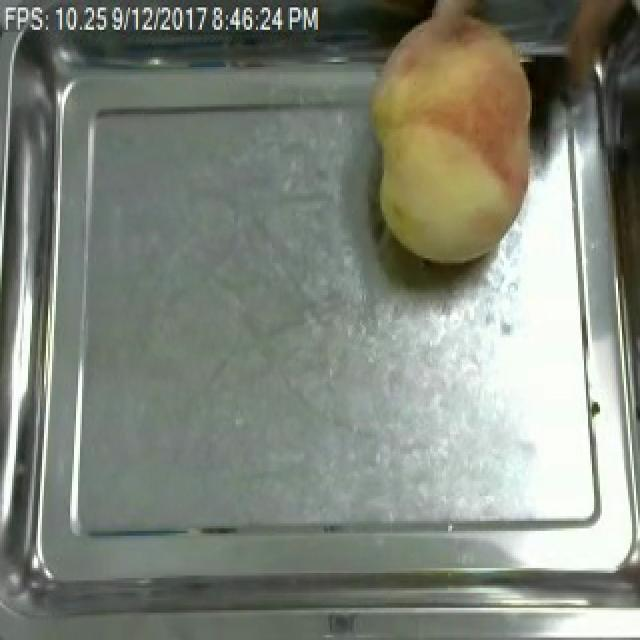Fruit: (356, 0, 550, 273)
